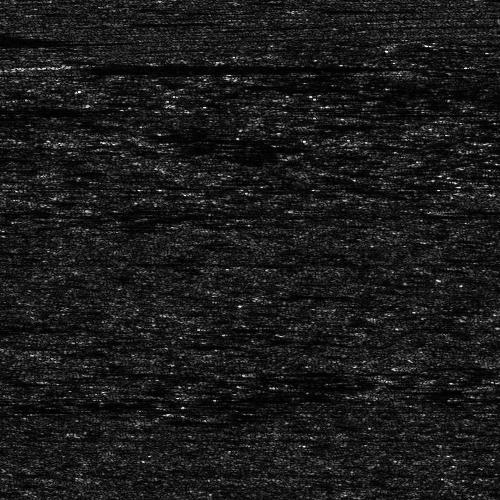rock: (216, 291, 299, 300), (0, 64, 71, 71), (275, 5, 338, 10), (481, 384, 500, 389), (426, 207, 457, 210)
shadow: (25, 64, 390, 71), (258, 291, 351, 300), (0, 38, 105, 43), (307, 5, 411, 10), (442, 207, 500, 210), (123, 21, 171, 24)
